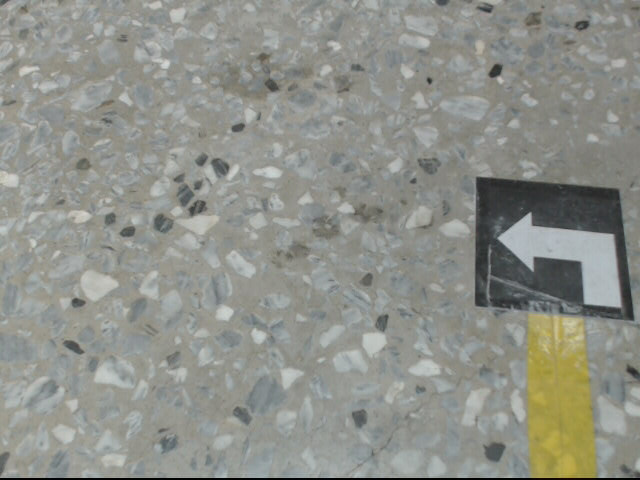left: (473, 171, 635, 321)
